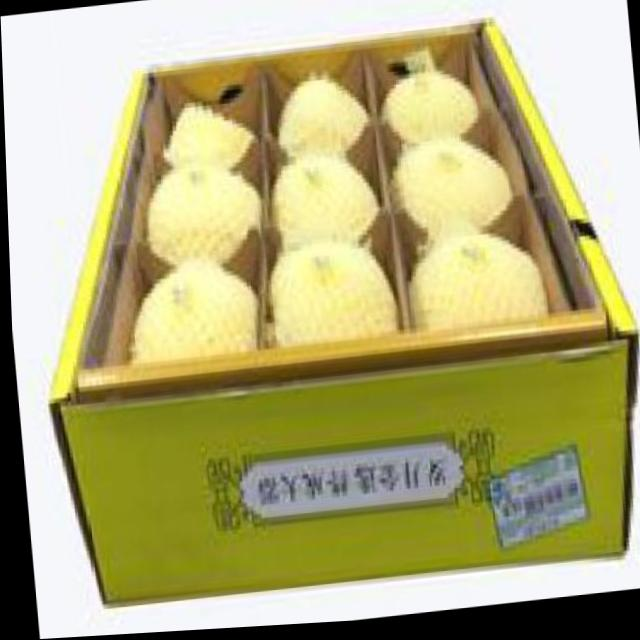box: (15, 3, 640, 639)
